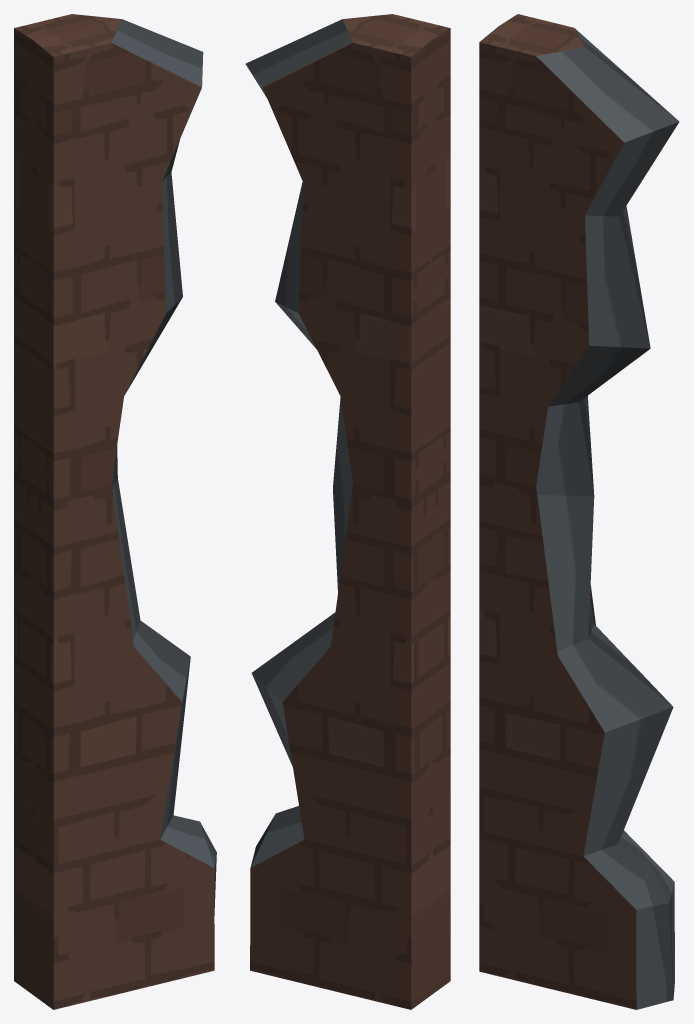
Rendered from SM_Bld_Base_Wall_Destroyed_02.obj.
3 renders of one model, left to right at view 1: azimuth 30°, elevation 25°; view 2: azimuth 150°, elevation 25°; view 3: azimuth 330°, elevation 25°, orthographic. The views are drawn at different scales.
Visible parts, largest first — view 1: SM_Bld_Base_Wall_Destroyed_02_1, SM_Bld_Base_Wall_Destroyed_02_2, SM_Bld_Base_Wall_Destroyed_02_0; view 2: SM_Bld_Base_Wall_Destroyed_02_2, SM_Bld_Base_Wall_Destroyed_02_1, SM_Bld_Base_Wall_Destroyed_02_0; view 3: SM_Bld_Base_Wall_Destroyed_02_1, SM_Bld_Base_Wall_Destroyed_02_0, SM_Bld_Base_Wall_Destroyed_02_2.
Boxes of the visible parts, x1,y1,x2,y2 form: SM_Bld_Base_Wall_Destroyed_02_1: [33, 19, 214, 1009]; SM_Bld_Base_Wall_Destroyed_02_2: [14, 14, 121, 994]; SM_Bld_Base_Wall_Destroyed_02_0: [111, 19, 216, 915]; SM_Bld_Base_Wall_Destroyed_02_2: [250, 19, 430, 1009]; SM_Bld_Base_Wall_Destroyed_02_1: [343, 14, 450, 994]; SM_Bld_Base_Wall_Destroyed_02_0: [245, 19, 352, 867]; SM_Bld_Base_Wall_Destroyed_02_1: [479, 26, 636, 1009]; SM_Bld_Base_Wall_Destroyed_02_0: [536, 28, 679, 1009]; SM_Bld_Base_Wall_Destroyed_02_2: [499, 14, 595, 625].
Size of the model in its own units: 0.5909 by 3.01 by 0.225.
Materials: 3 (3 with a texture image).
